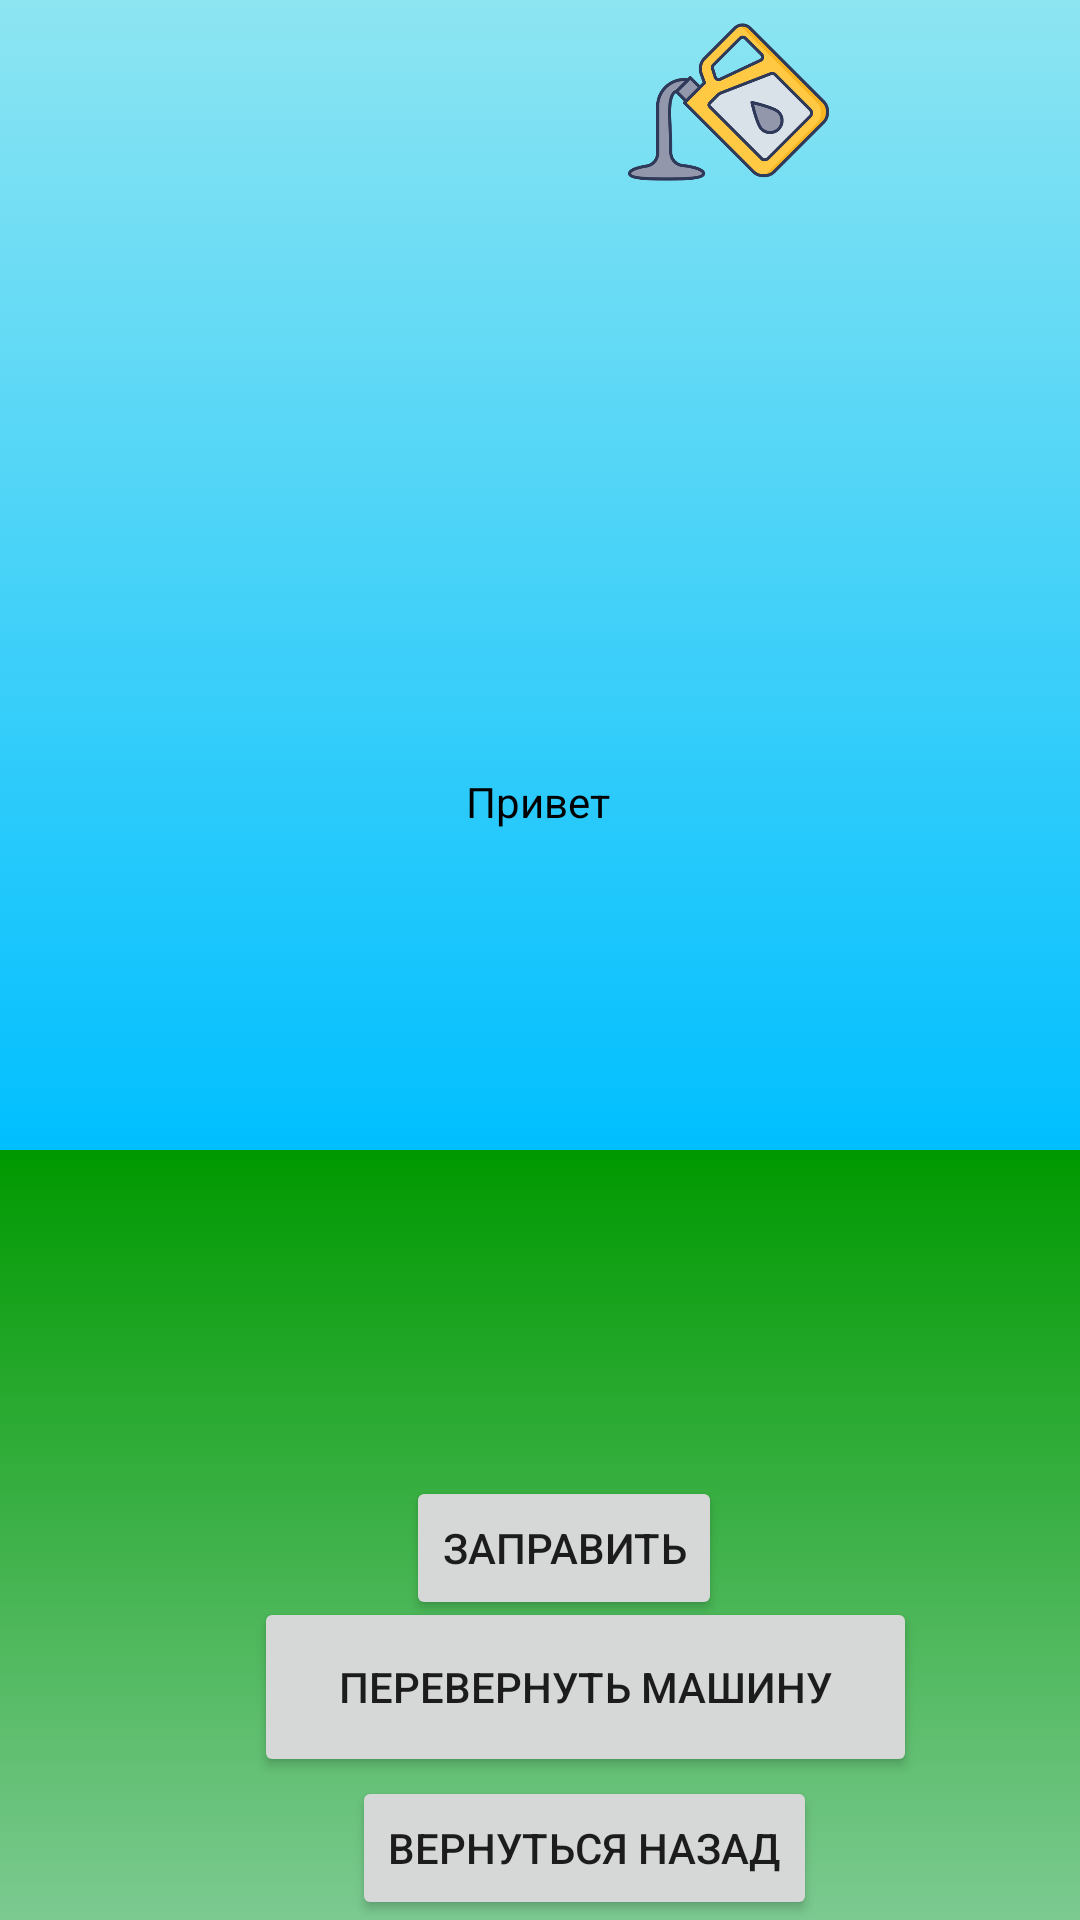

Named icons in this screenshot (1080w x 1920h) and their bounding boxes, (x1, y1, x2, y2):
fuel: (628, 0, 829, 181)
